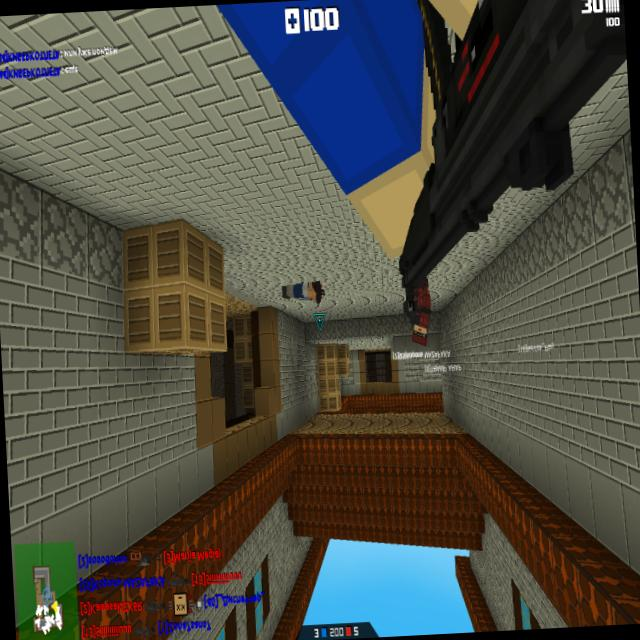enemy: (409, 276, 434, 350)
